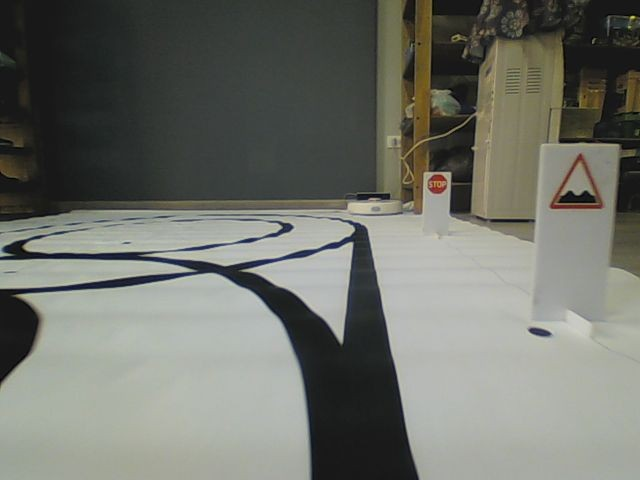Nerov: (546, 151, 605, 211)
Stop: (426, 173, 448, 195)
